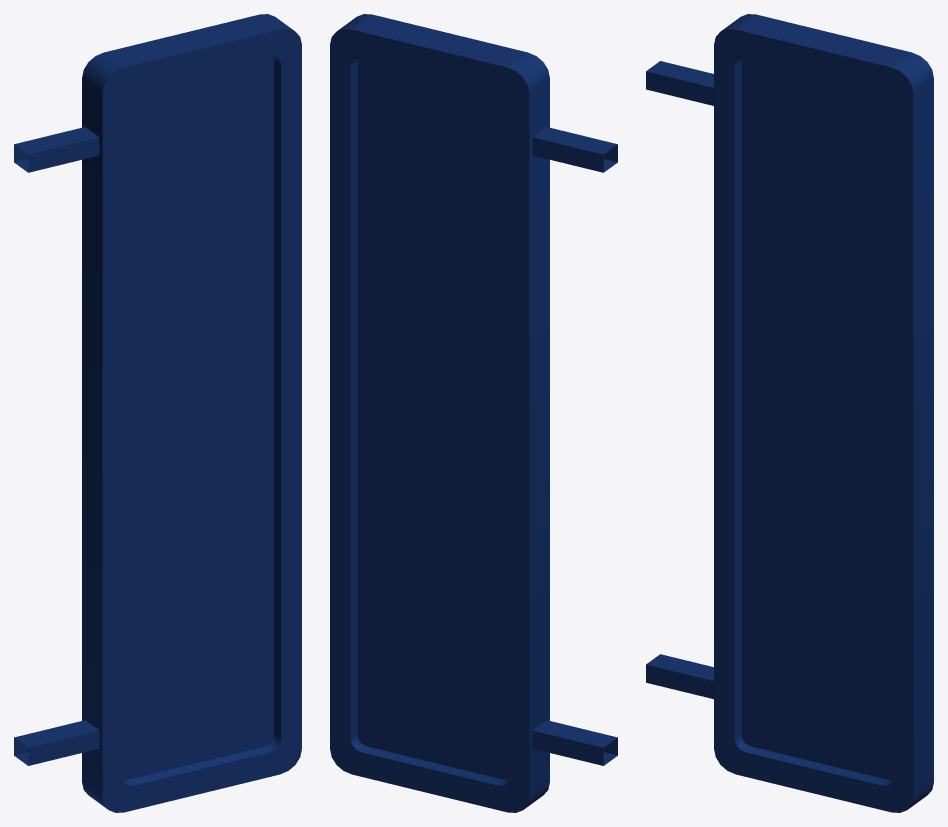
File: RoofTop_sign.fbx
3 renders of one model, left to right at view 1: azimuth 30°, elevation 25°; view 2: azimuth 150°, elevation 25°; view 3: azimuth 330°, elevation 25°, orthographic.
Parts seen in each view (by area): view 1: RoofTop_sign; view 2: RoofTop_sign; view 3: RoofTop_sign.
Boxes of the visible parts, x1,y1,x2,y2 form: RoofTop_sign: (14,14,301,812); RoofTop_sign: (330,14,617,812); RoofTop_sign: (646,14,933,812).
Bounding box in the file's own units: 190 × 500 × 25.
